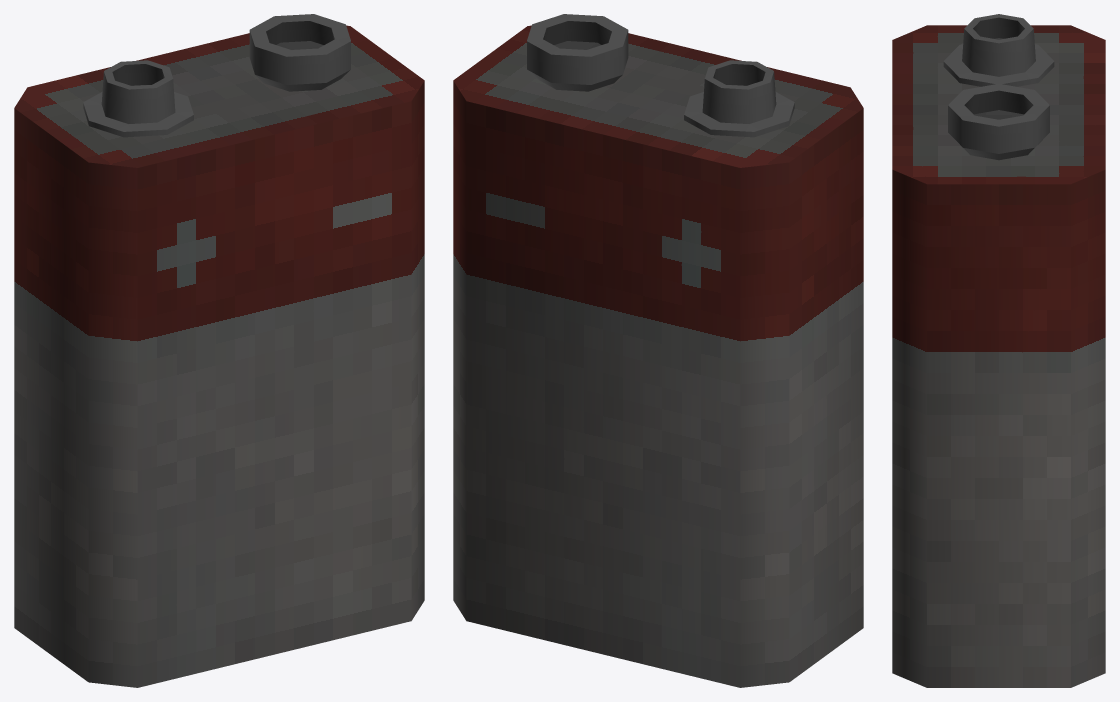
File: battery_mp_3_1.glb
3 renders of one model, left to right at view 1: azimuth 30°, elevation 25°; view 2: azimuth 150°, elevation 25°; view 3: azimuth 270°, elevation 25°, orthographic. The views are drawn at different scales.
Parts seen in each view (by area): view 1: battery_mp_3_1; view 2: battery_mp_3_1; view 3: battery_mp_3_1.
Boxes of the visible parts, bbox=[...] form: battery_mp_3_1: bbox=[14, 14, 424, 687]; battery_mp_3_1: bbox=[453, 14, 863, 687]; battery_mp_3_1: bbox=[892, 14, 1105, 687].
Size of the model in its own units: 0.0648 by 0.103 by 0.0368.
1 material, 1 textured.
